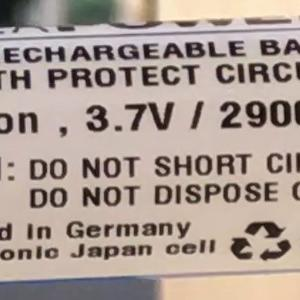3.7V: (76, 92, 179, 142)
